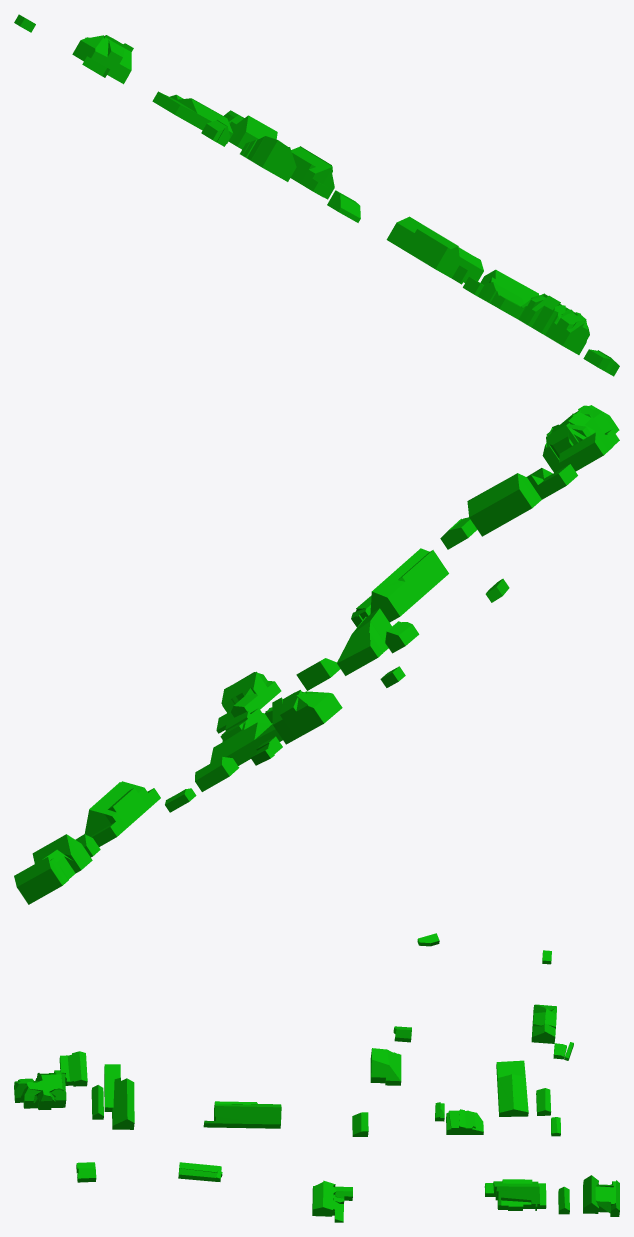
The picture shows the model from 3 angles, top to bottom: view 1: azimuth 30°, elevation 25°; view 2: azimuth 150°, elevation 25°; view 3: azimuth 270°, elevation 25°; orthographic projection. The views are drawn at different scales.
Visible parts, largest first — view 1: mesh; view 2: mesh; view 3: mesh.
Part boxes in pixels (left/top/right/bottom): mesh: left=14, top=14, right=619, bottom=376; mesh: left=14, top=405, right=619, bottom=904; mesh: left=14, top=933, right=619, bottom=1222.
Bounding box in the file's own units: 96.45 × 72.89 × 217.
